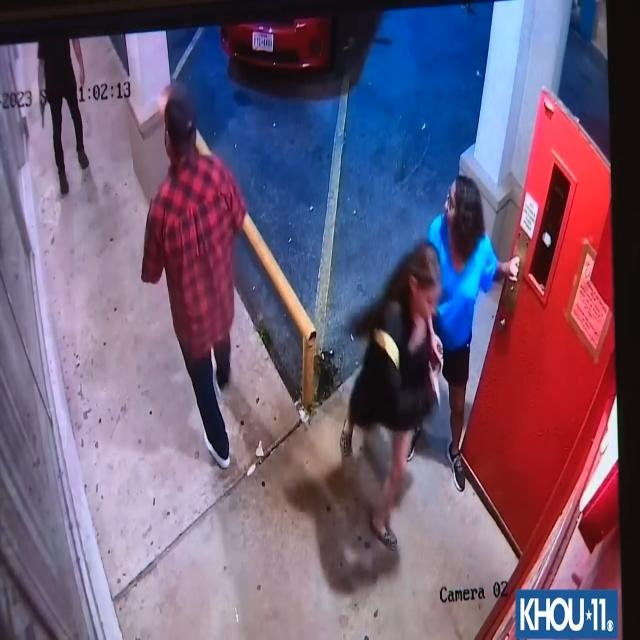Gun_Holder: (32, 84, 48, 130)
Person: (140, 79, 250, 480), (336, 234, 444, 556), (422, 157, 516, 467), (31, 28, 101, 194)
